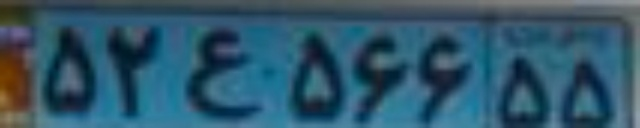2: (103, 24, 165, 117)
5: (41, 24, 98, 117), (284, 31, 343, 120), (560, 54, 617, 127), (493, 56, 549, 126)
6: (350, 35, 408, 122), (417, 35, 472, 124)
ain: (181, 26, 266, 118)
